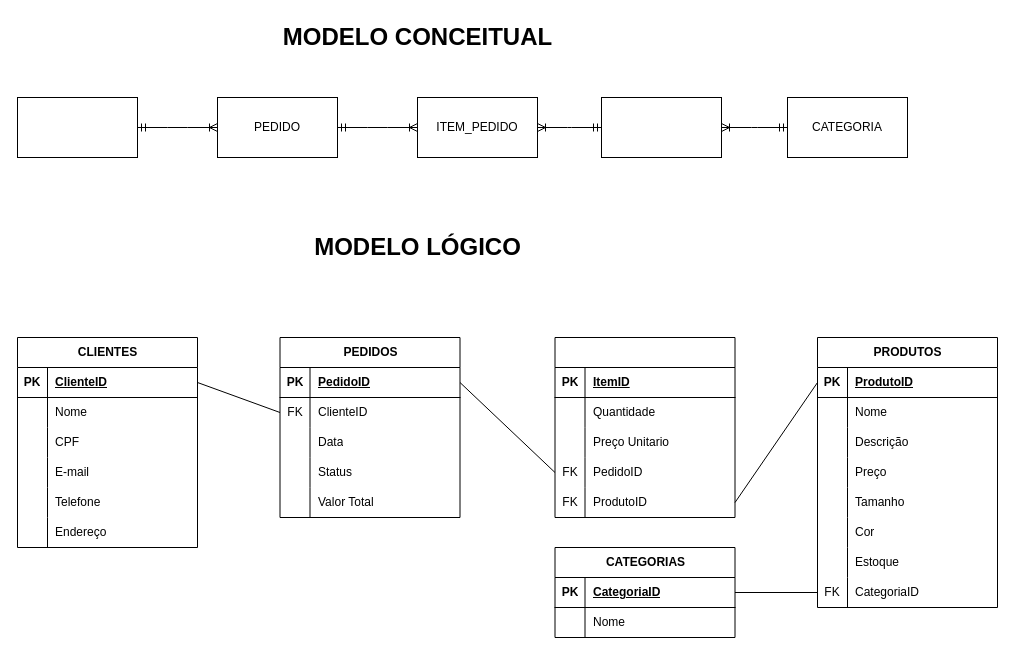
The diagram is 1015 pixels wide and 655 high, and some of its shapes have lost their labels. The shapes that lost their labels are listed below. From the top down, each one's box as (x1, y1, x2, y2) in pixels, then its label:
(16, 96, 138, 158): CLIENTE
(600, 96, 722, 158): PRODUTO
(554, 336, 735, 518): ITENS_PEDIDO
